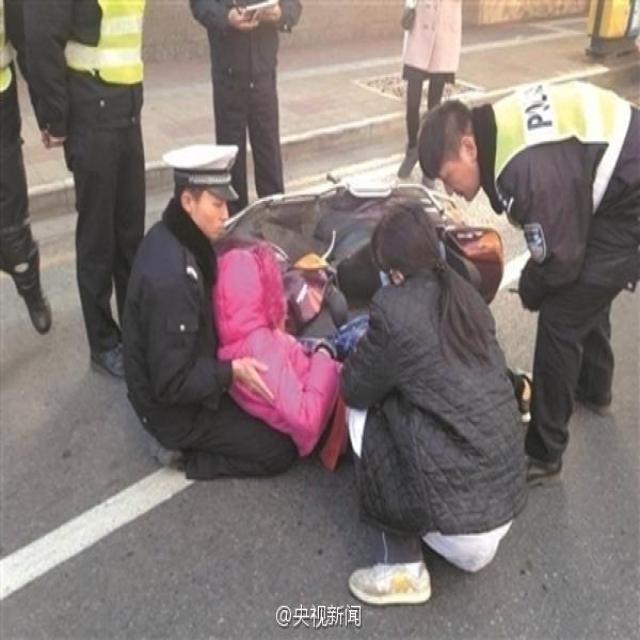fall: (416, 75, 640, 479), (345, 198, 532, 607), (118, 142, 302, 476), (10, 0, 152, 376), (210, 238, 362, 468), (194, 0, 306, 197), (396, 0, 463, 180)
